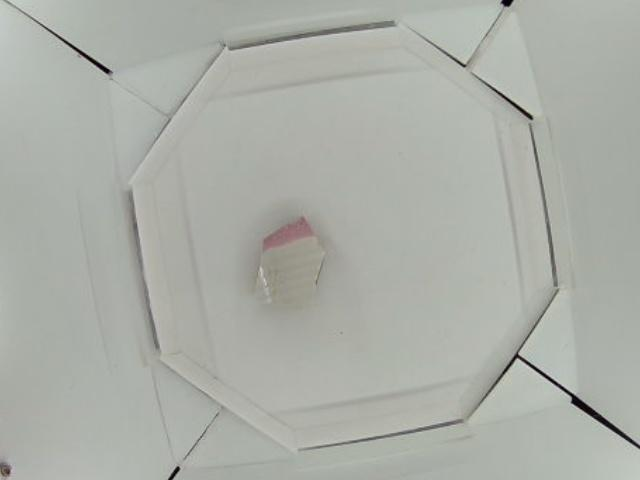China: (251, 213, 326, 303)
